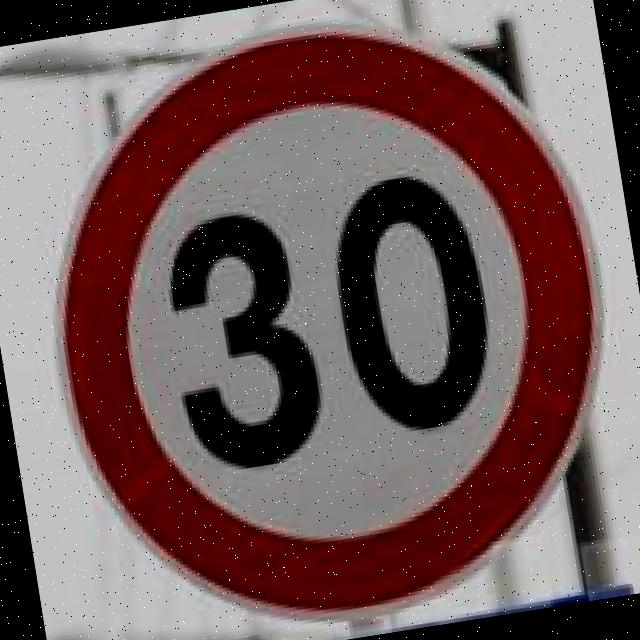Ograniczenie predkosci do 30: (16, 0, 633, 640)
